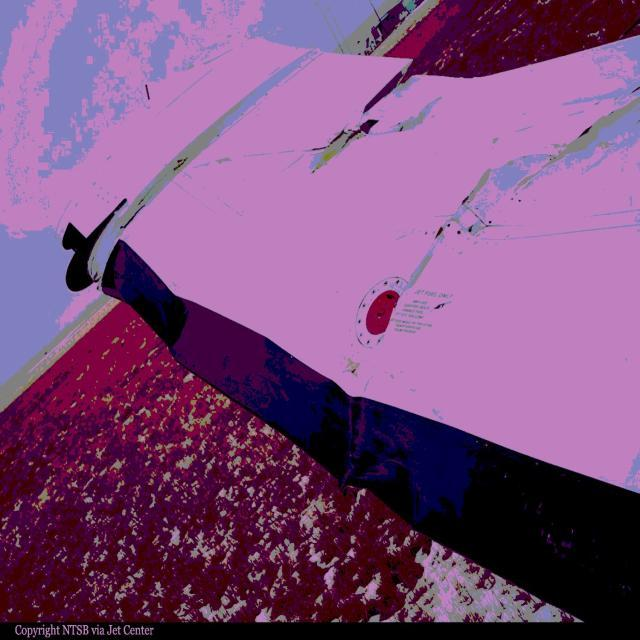crack: (311, 58, 439, 180), (402, 164, 497, 296), (514, 99, 640, 198)
